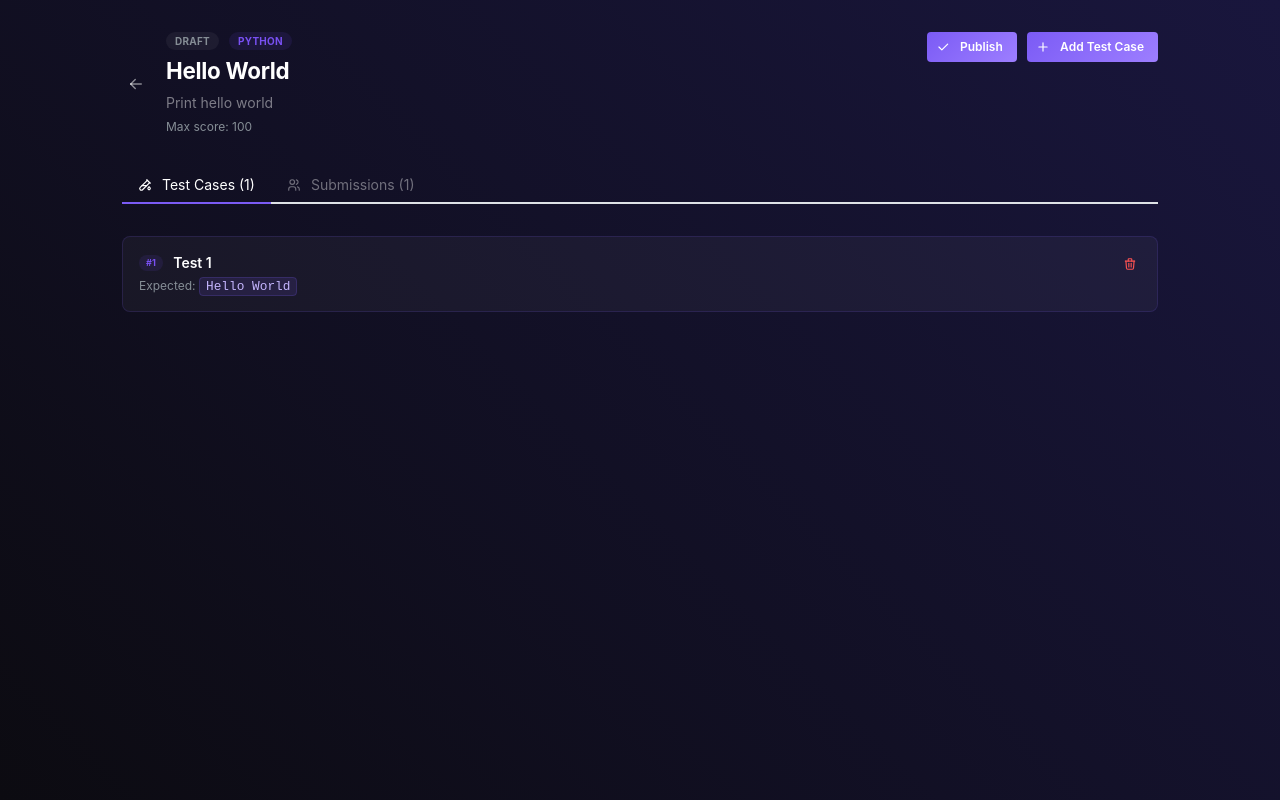
TeacherAssignmentPage Component tests › should show form error if name is empty on add test case
Click the button "Add Test Case": (1092,47) [1027,32,1158,62]
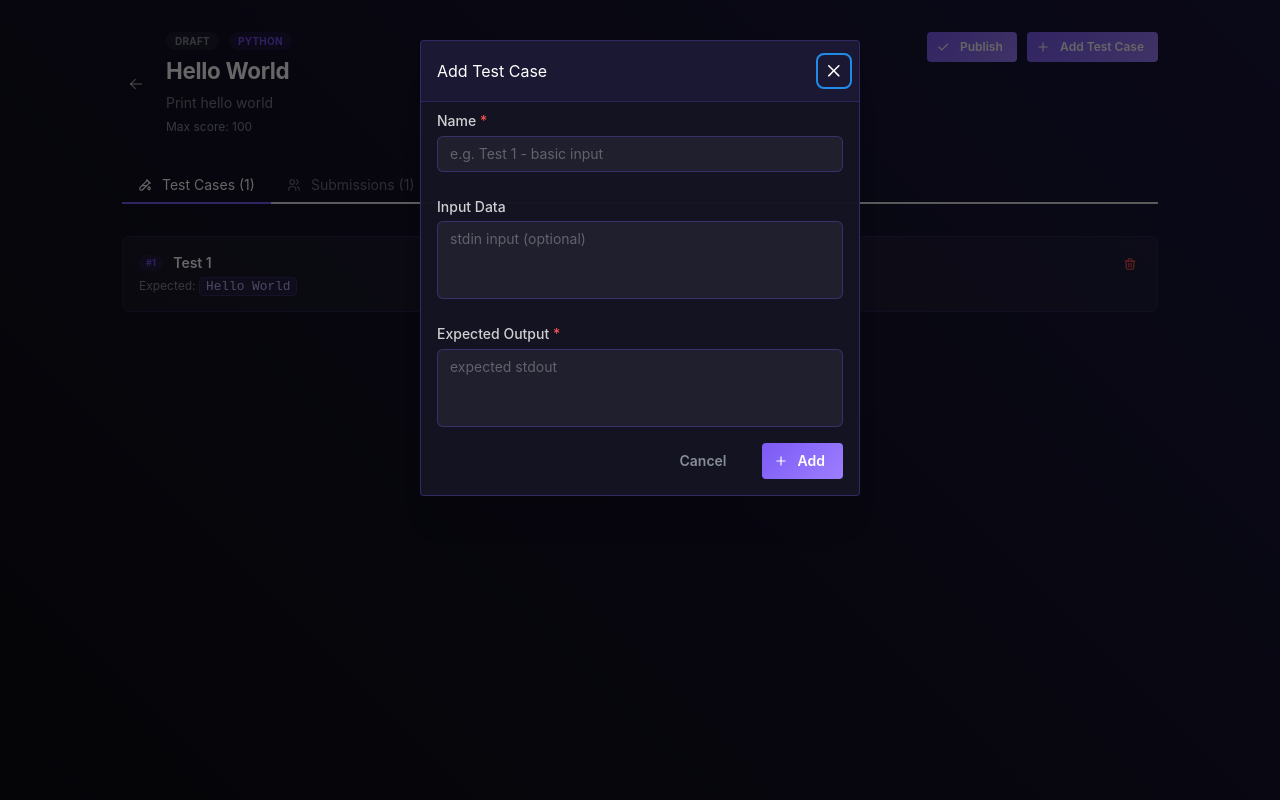
Click the button "Add": (802,461) [762,443,843,479]
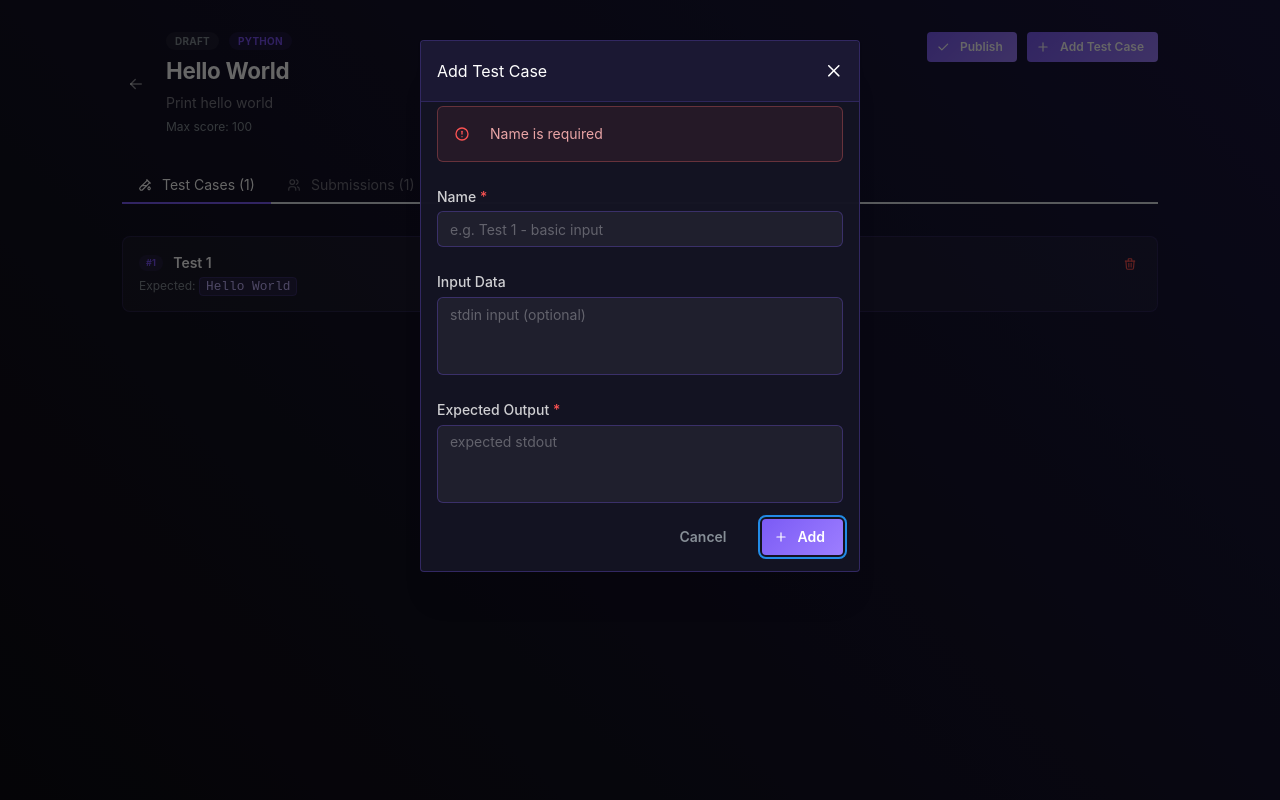
Check: the text "Name is required" is shown, box [490,125,603,142]
